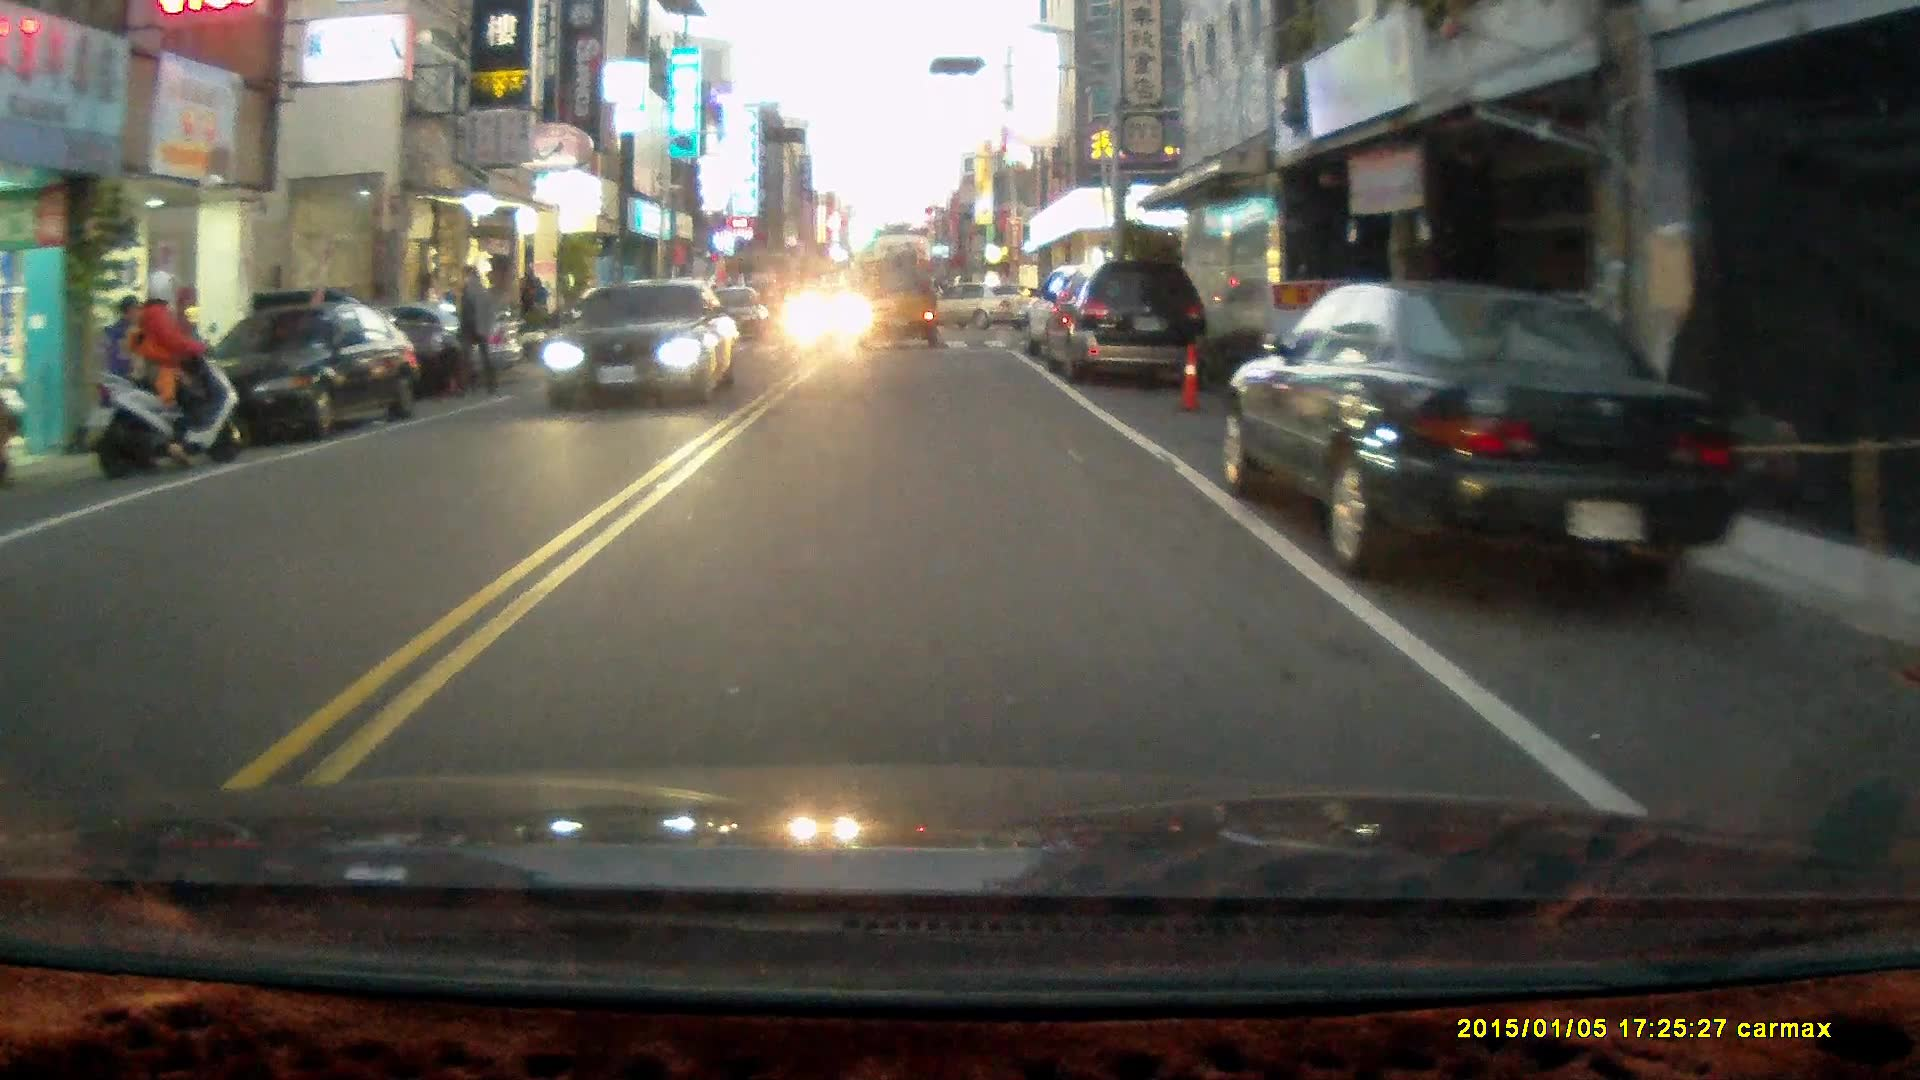pedestrian: (449, 261, 496, 400)
rider: (92, 266, 241, 476)
vehicle: (1219, 279, 1769, 595), (189, 303, 417, 446), (543, 279, 743, 408), (266, 296, 528, 389), (1036, 260, 1211, 385), (859, 261, 943, 353), (908, 278, 1038, 336)
